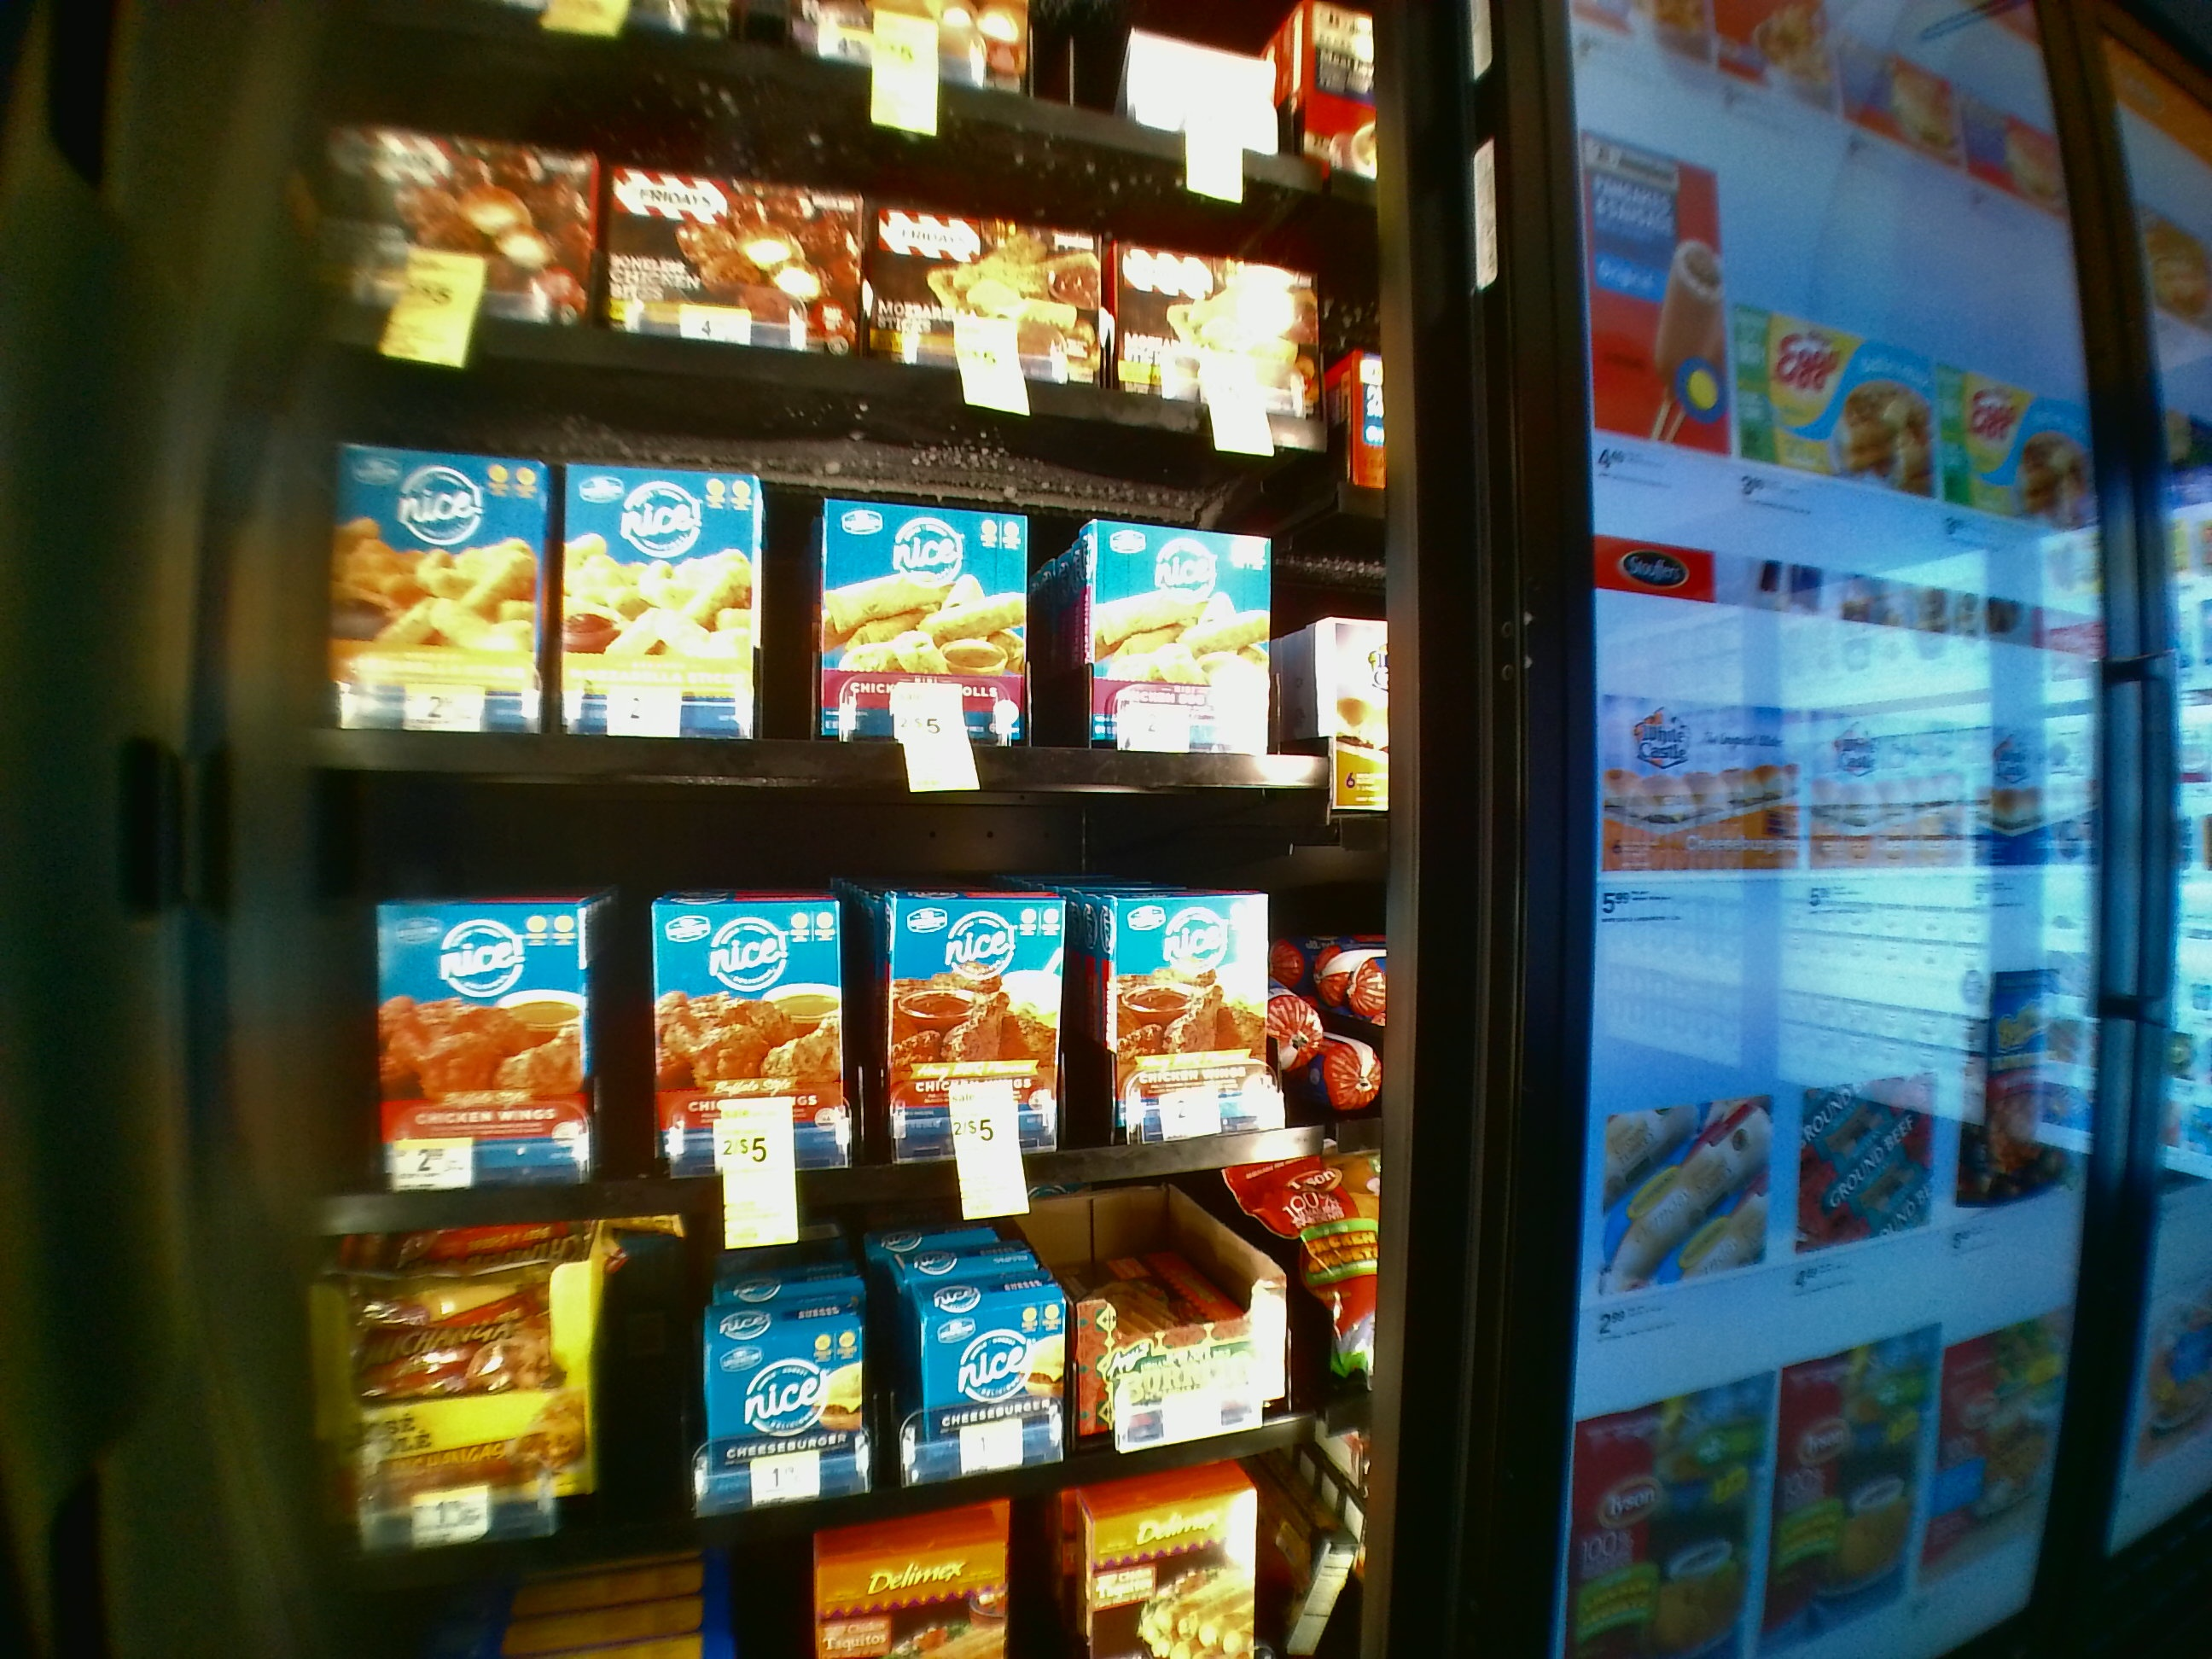shelf: (284, 817, 1379, 1239), (280, 410, 1383, 796)
